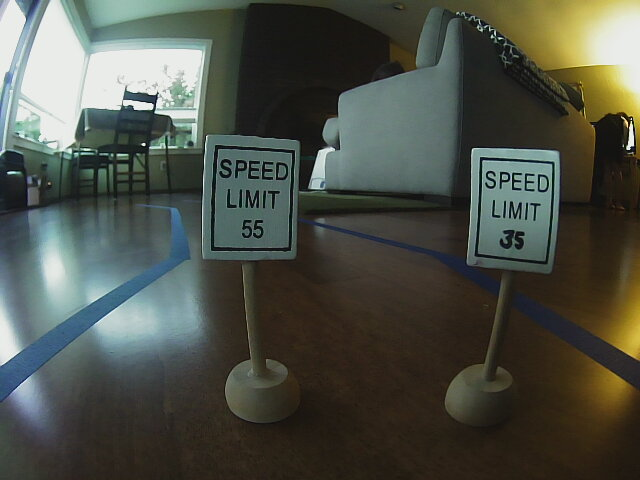SpeedLimit35: (472, 148, 556, 270)
SpeedLimit55: (203, 134, 295, 260)
